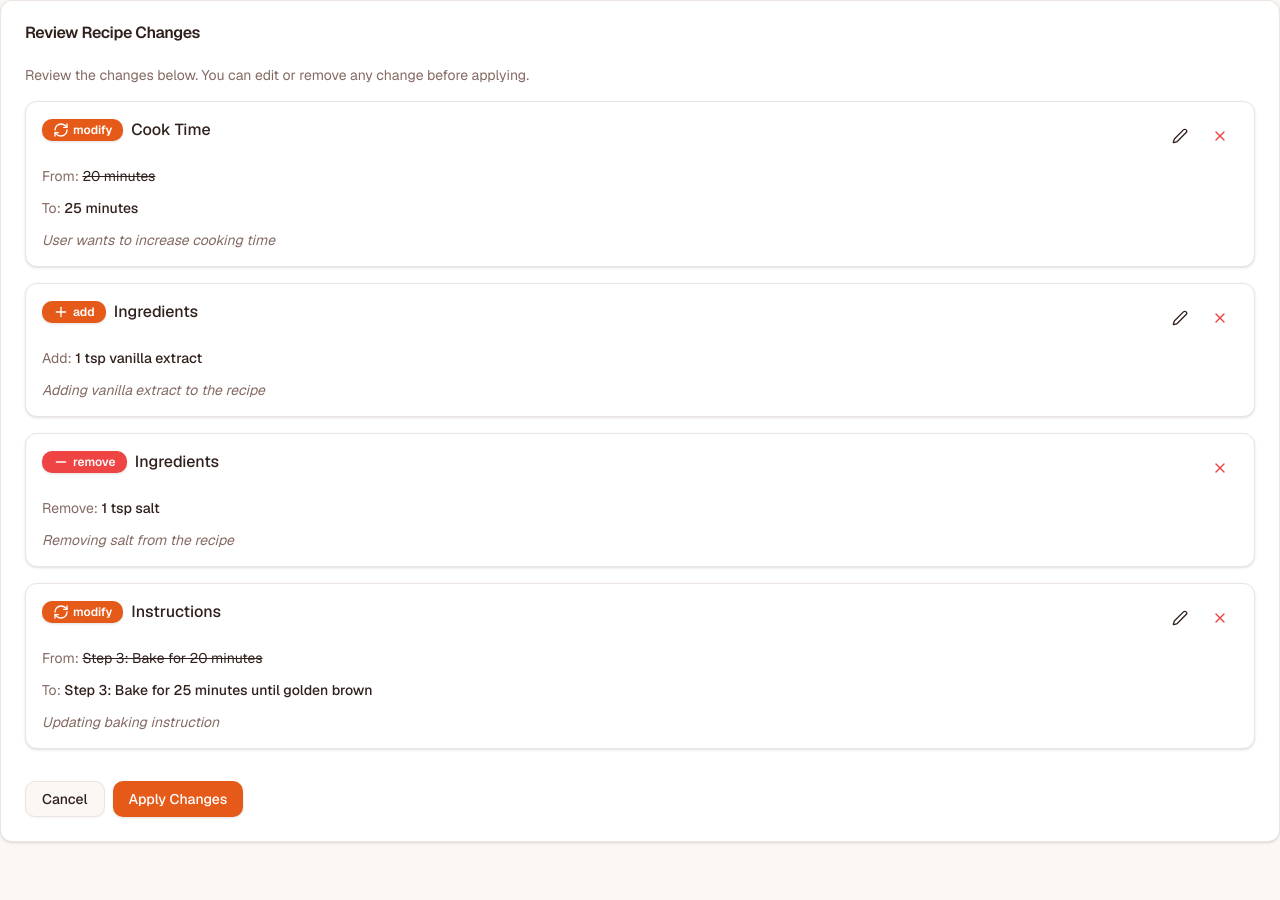
Scenario: VoiceChangeReview › saves edited value
Click the 1st button at (1180, 136), box x1=1162 y1=118 x2=1198 y2=154
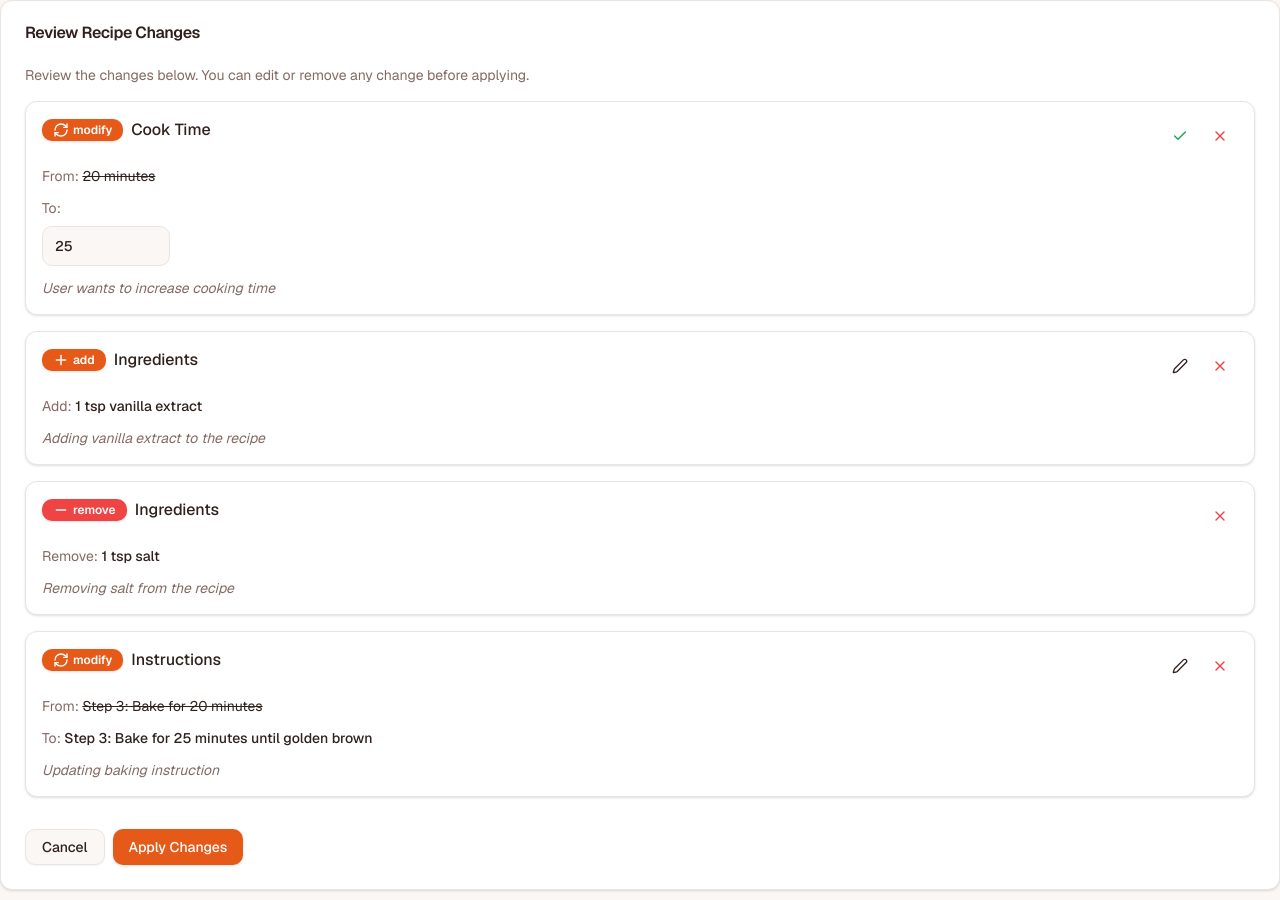
Note: Change value
Replace the text in the number field with "30" at (106, 246), box x1=42 y1=226 x2=170 y2=266
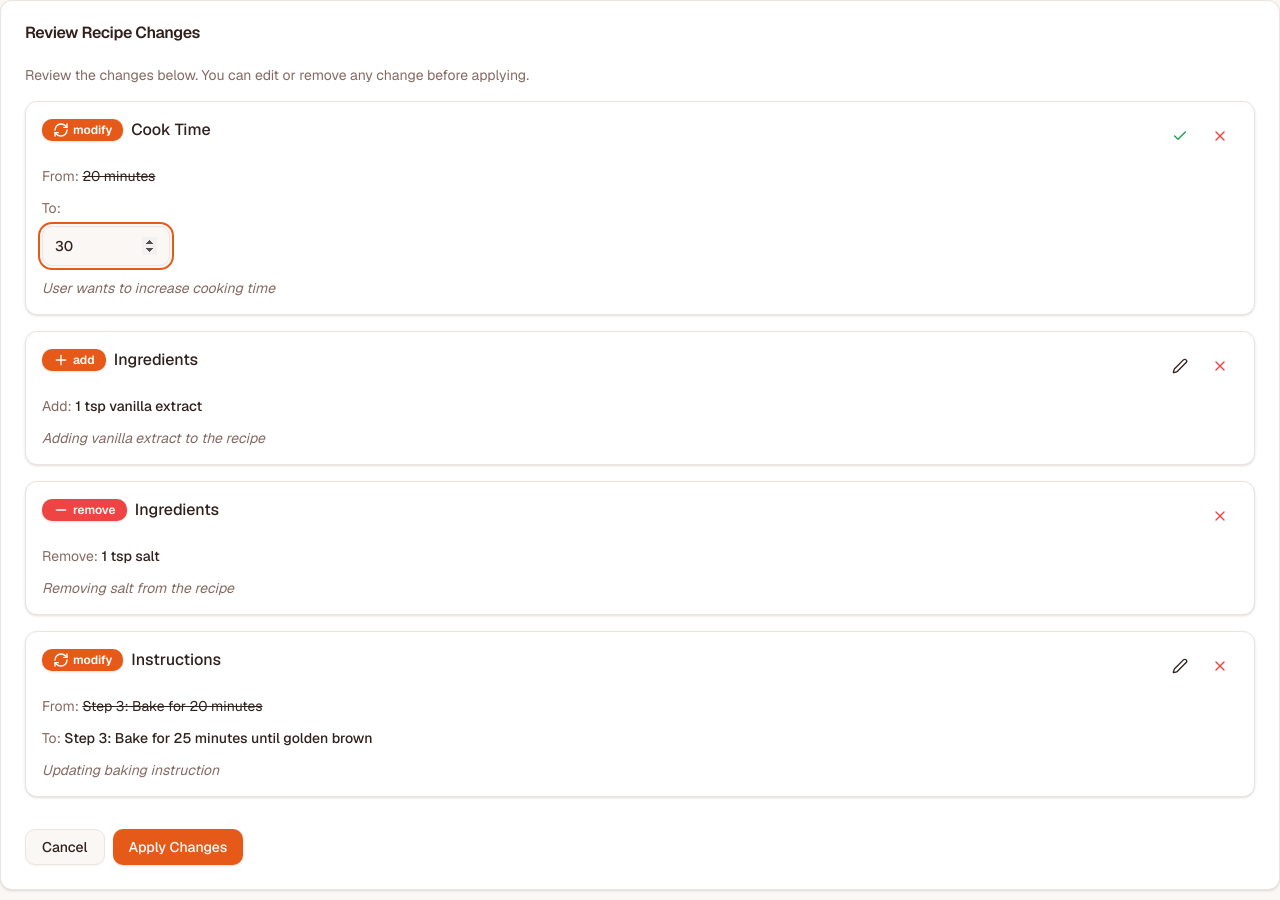
Click the 1st button at (1180, 136), box x1=1162 y1=118 x2=1198 y2=154
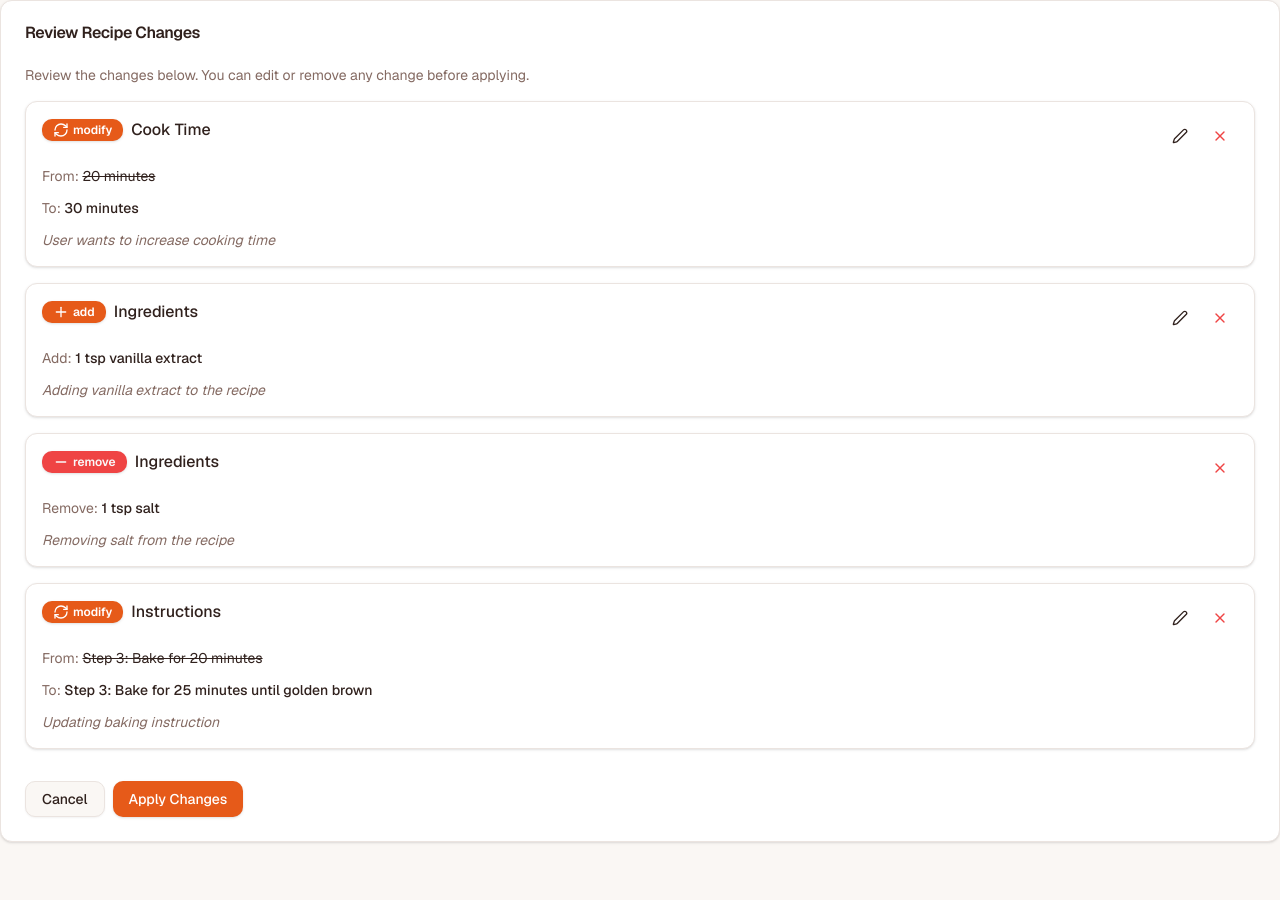
Now the text "30 minutes" is shown, box x1=64 y1=199 x2=139 y2=217
